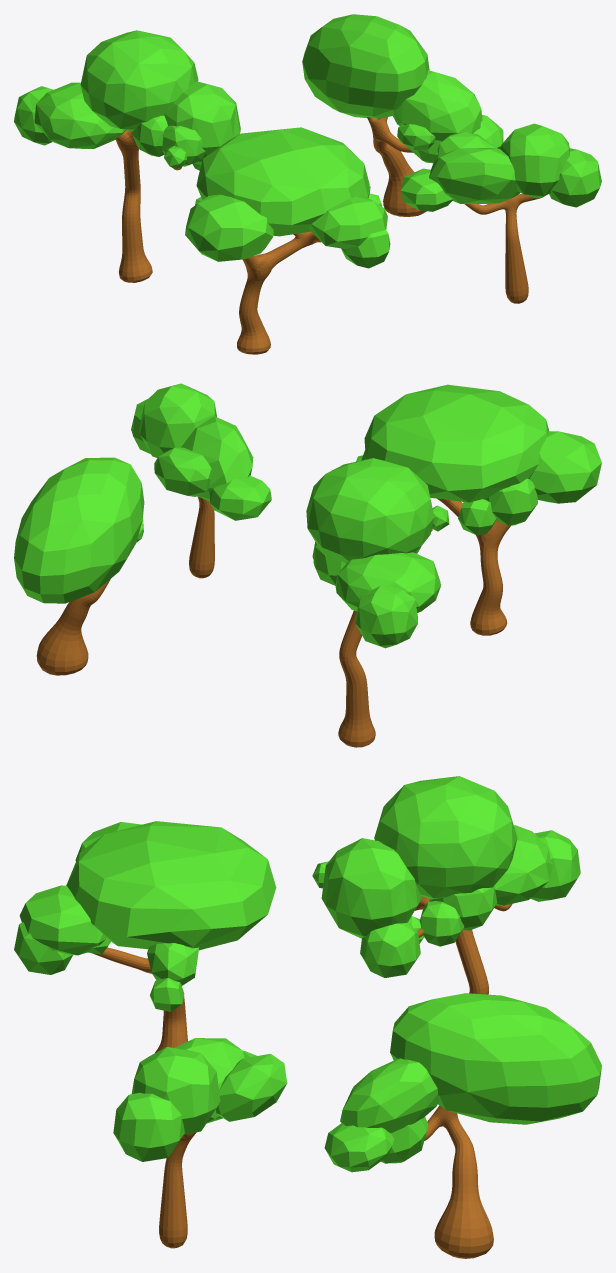
The model's file is Trees.fbx.
3 renders of one model, top to bottom at view 1: azimuth 30°, elevation 25°; view 2: azimuth 150°, elevation 25°; view 3: azimuth 270°, elevation 25°, orthographic. The views are drawn at different scales.
Visible parts, largest first — view 1: Tronco.007, Hojas.006, Hojas.001, Hojas.004; view 2: Tronco.007, Hojas.006, Hojas.001, Hojas.004; view 3: Hojas.001, Hojas.006, Tronco.007, Hojas.004.
Part boxes in pixels (x1,y1,x2,y2): Tronco.007: (185,127,390,354); Hojas.006: (14,30,240,282); Hojas.001: (302,14,503,216); Hojas.004: (400,123,601,303); Tronco.007: (356,384,601,635); Hojas.006: (306,458,449,747); Hojas.001: (14,457,144,675); Hojas.004: (131,383,271,578); Hojas.001: (324,993,601,1258); Hojas.006: (312,776,580,994); Tronco.007: (14,821,276,1052); Hojas.004: (113,1038,287,1248).
Bounding box in the file's own units: 2144 × 1220 × 2136.
